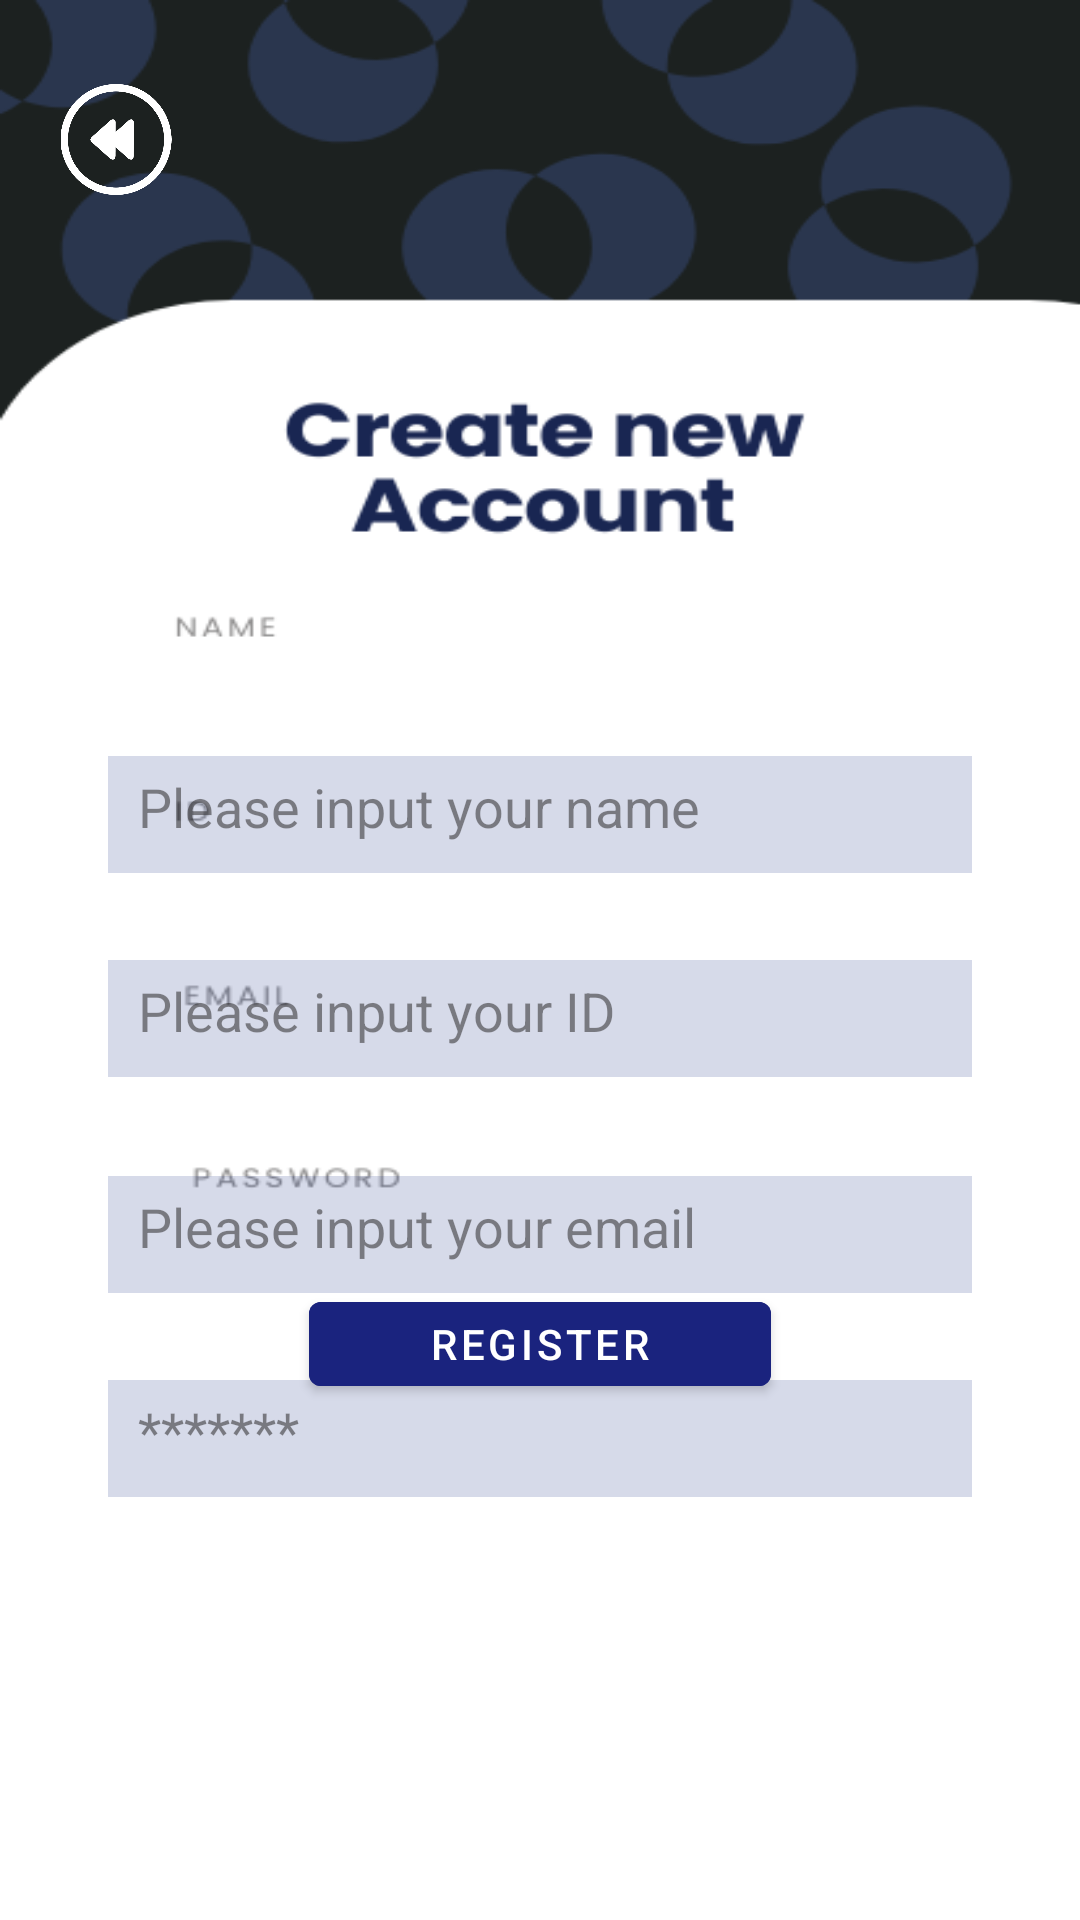

Named icons in this screenshot (1080x1920) and their centers, [x,y]:
back: [116,139]
